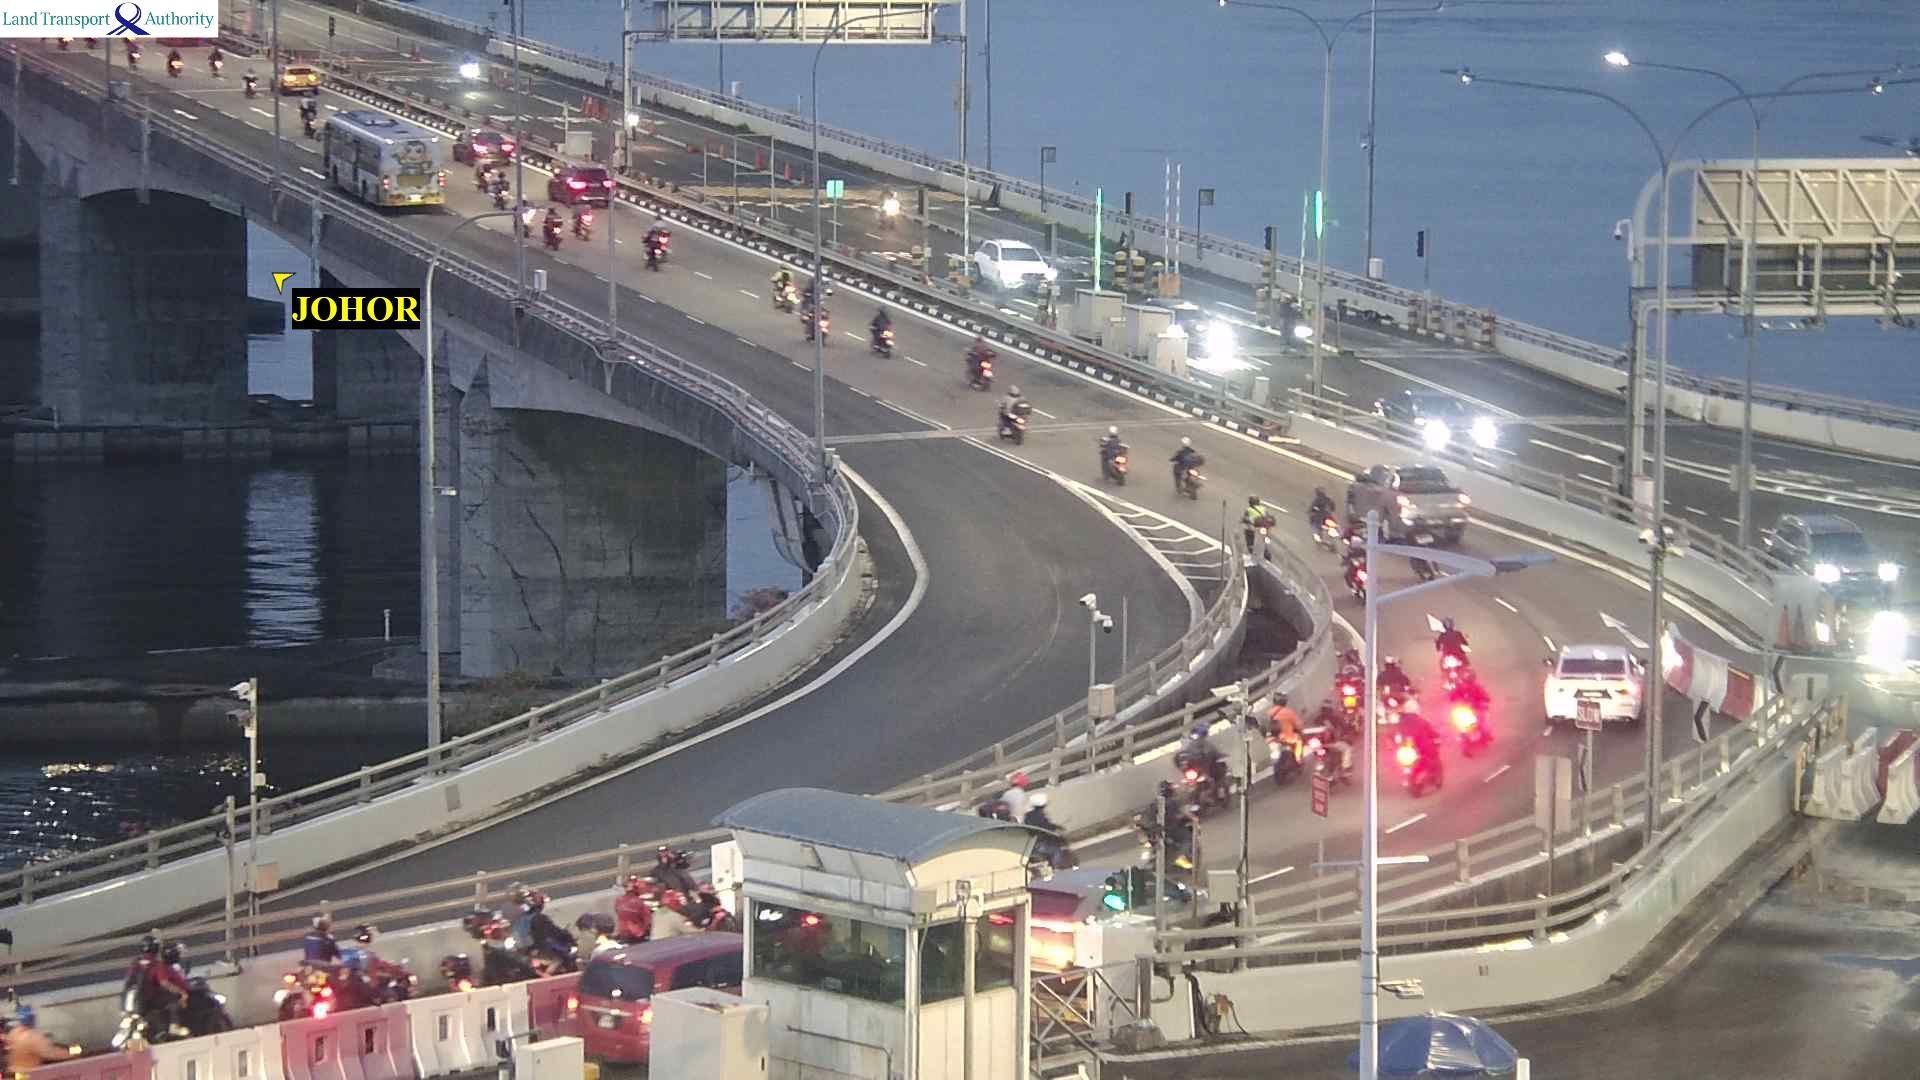vehicle-secondlink-johor: (318, 102, 447, 210), (1353, 462, 1478, 545), (582, 936, 745, 1000), (1555, 640, 1655, 728), (477, 889, 575, 972), (626, 849, 715, 927), (286, 922, 359, 1015), (293, 919, 363, 976), (1449, 665, 1494, 750), (0, 1009, 54, 1079), (989, 778, 1058, 827), (473, 890, 529, 948), (1445, 645, 1486, 723), (285, 955, 331, 1019), (686, 865, 732, 928), (1393, 711, 1428, 793), (1183, 741, 1228, 804), (625, 873, 665, 943), (547, 162, 615, 203), (1270, 705, 1300, 785), (1444, 629, 1482, 688), (1386, 489, 1424, 546), (1199, 744, 1234, 798), (1168, 444, 1203, 496), (1093, 434, 1127, 483), (1338, 644, 1365, 707), (1000, 393, 1033, 439), (1348, 555, 1377, 605), (1383, 657, 1408, 712), (284, 63, 323, 92), (804, 305, 833, 343), (967, 351, 994, 389), (340, 922, 375, 952), (644, 228, 669, 265), (870, 319, 893, 359), (977, 352, 1000, 390), (484, 166, 513, 194), (243, 71, 258, 95), (169, 54, 185, 75), (127, 47, 138, 66)
vehicle-secondlink-singapore: (1383, 392, 1505, 446), (956, 241, 1064, 284), (1133, 298, 1203, 327), (452, 131, 484, 161)
